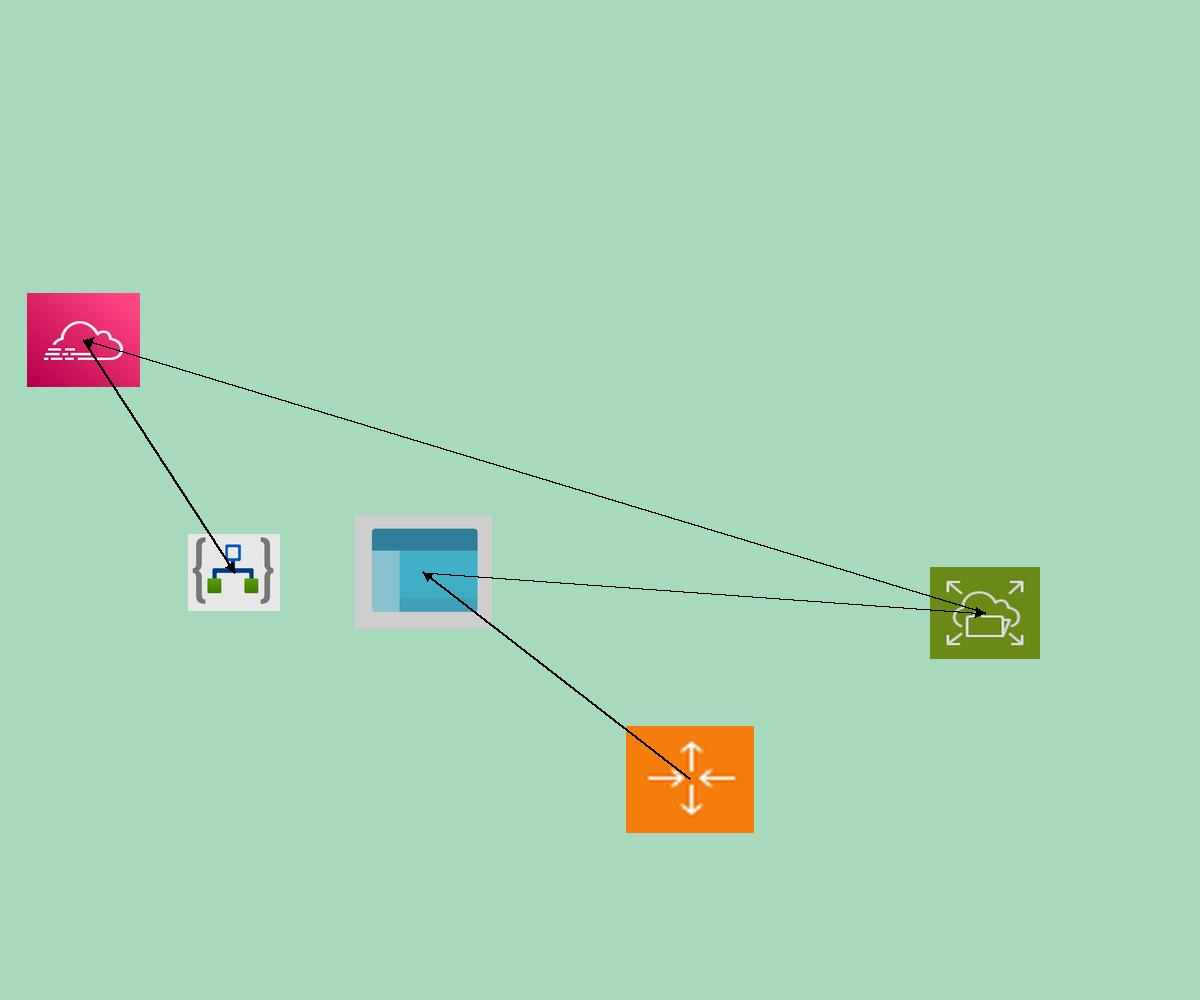AWS-CloudTrail: (27, 293, 140, 387)
AWS-EFS: (930, 567, 1040, 659)
AWS-Scaling-group: (626, 726, 754, 833)
Azure_integration-204-Logic-Apps: (188, 534, 280, 611)
Azure_management-portal: (355, 515, 492, 629)
